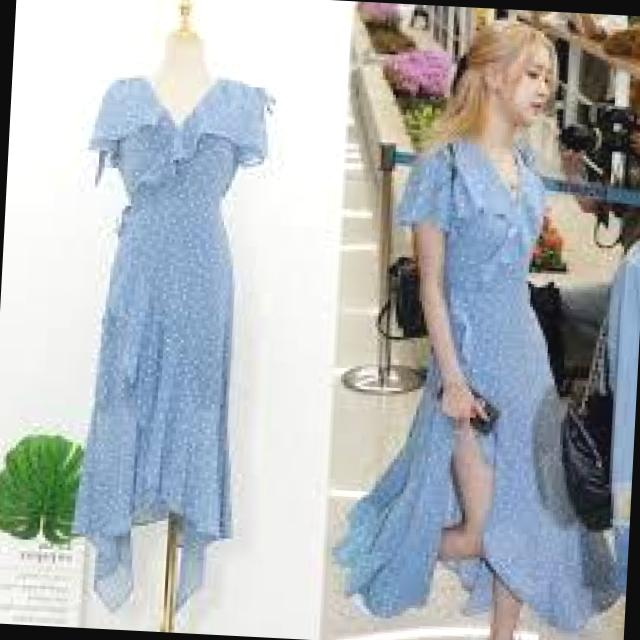dress: (342, 119, 628, 635), (66, 69, 270, 615)
